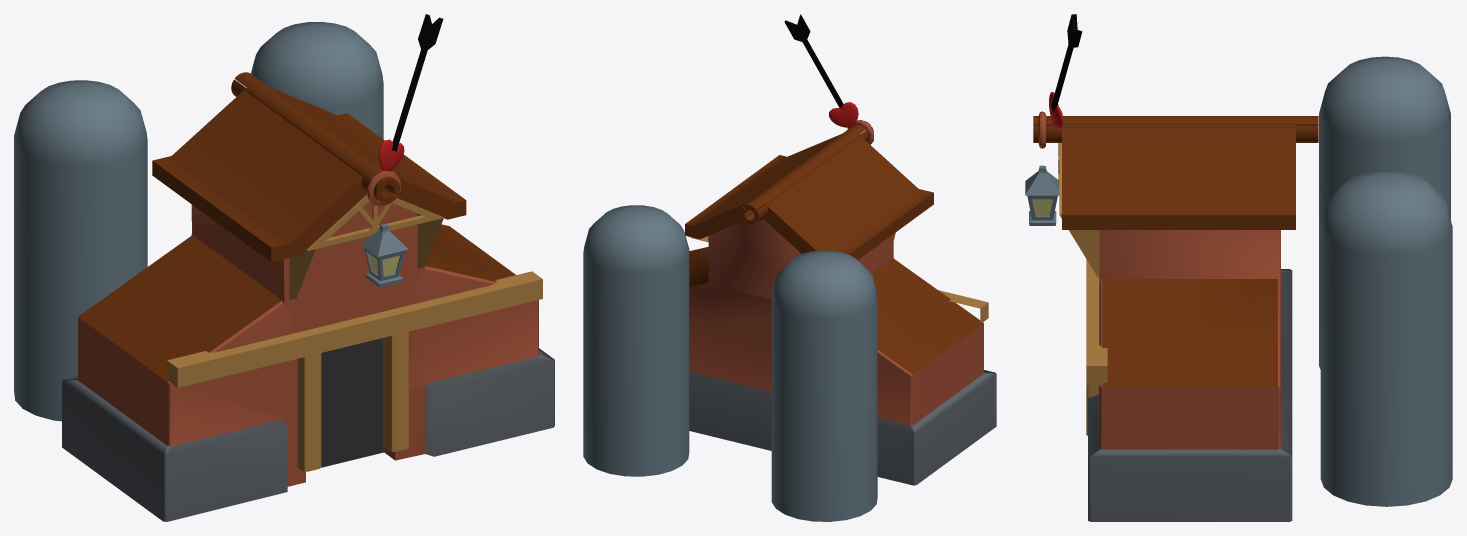
Rendered from Farm_valentines_building.glb.
The picture shows the model from 3 angles, left to right: view 1: azimuth 30°, elevation 25°; view 2: azimuth 150°, elevation 25°; view 3: azimuth 270°, elevation 25°; orthographic projection. The views are drawn at different scales.
Bounding box in the file's own units: 0.1269 × 0.1395 × 0.1221.
